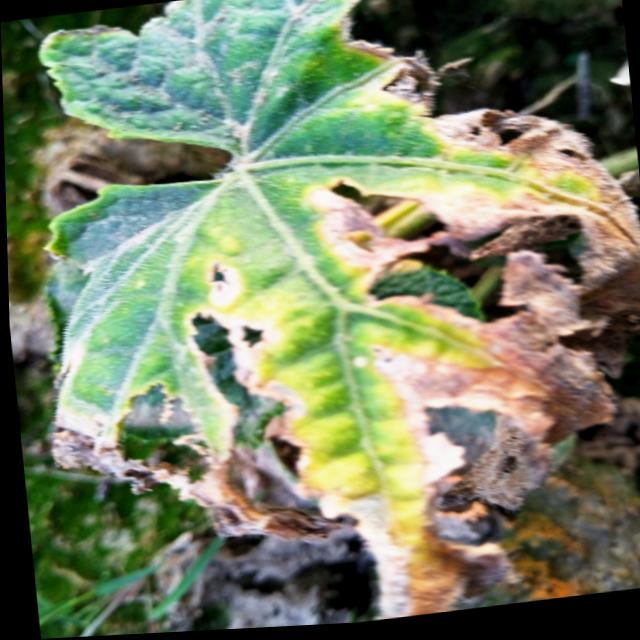Anthracnose: (322, 178, 588, 325), (237, 317, 267, 354), (206, 257, 234, 290)
